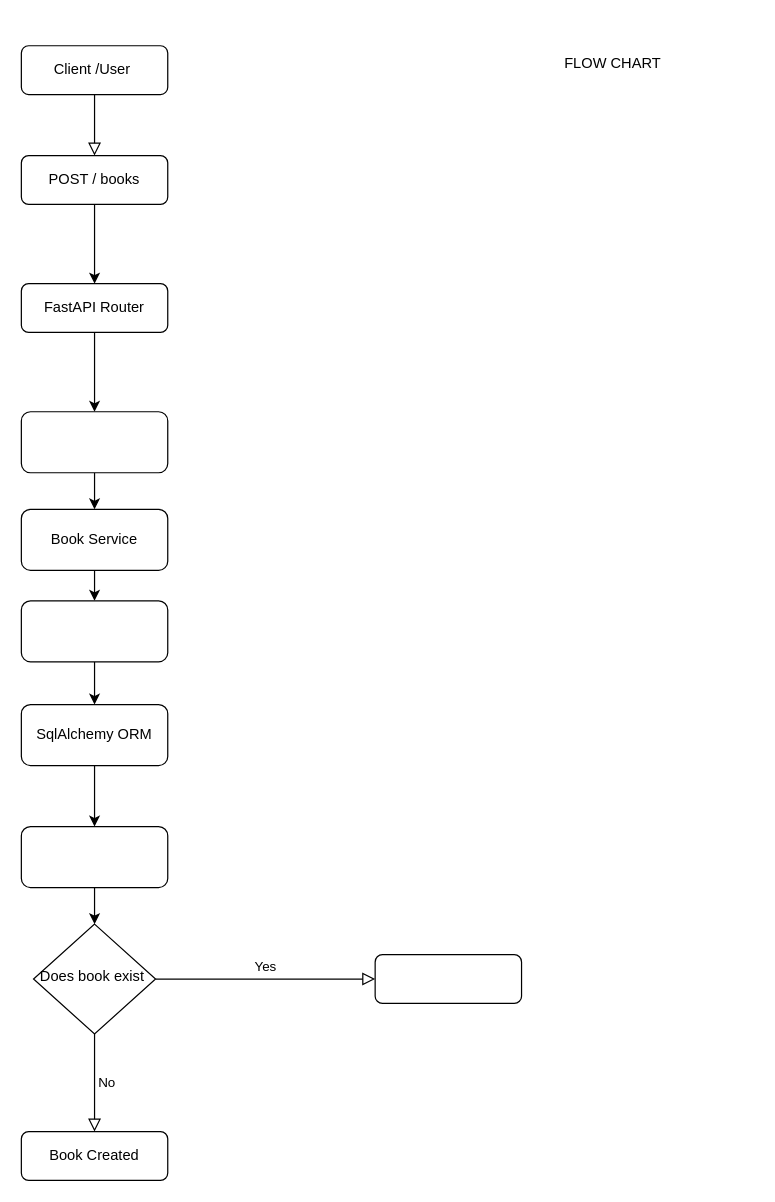
This 775x1202 diagram has some shape labels left out. The centre of each missing label's shape, as x and y in pixels:
Book Repository: the point at 94,631
Exception - Already exists: the point at 448,978
Postgres Database: the point at 94,856
Pydantic Validation: the point at 94,442
